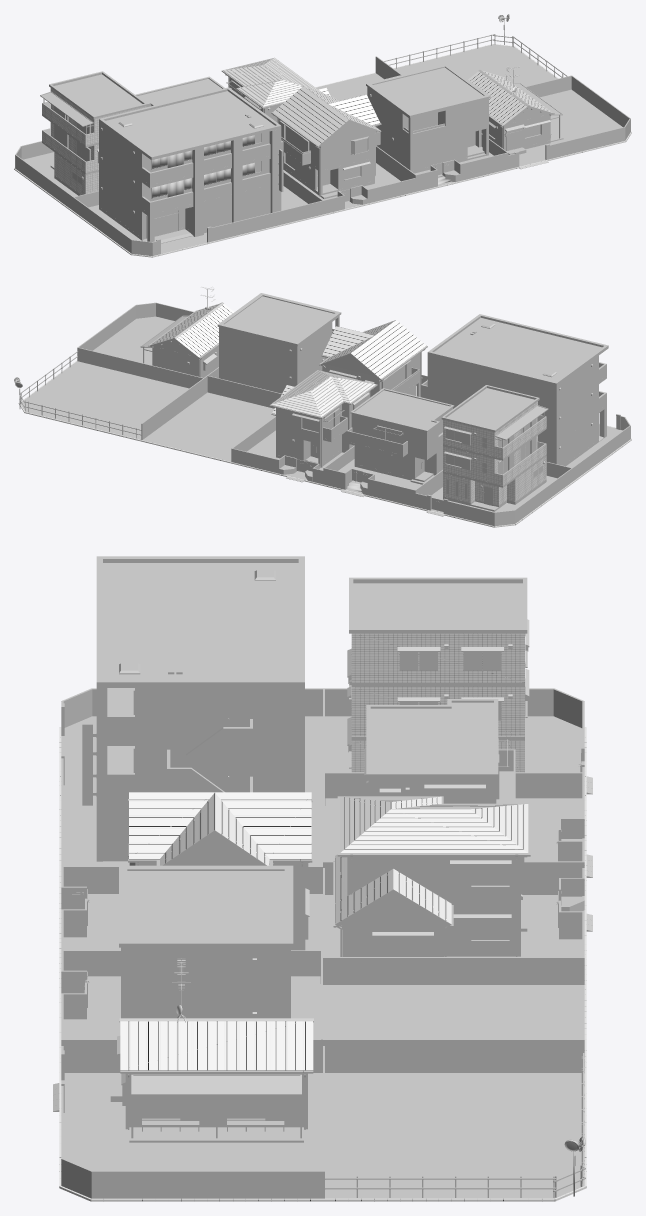
The model's file is Street_E.fbx.
The picture shows the model from 3 angles, top to bottom: view 1: azimuth 30°, elevation 25°; view 2: azimuth 150°, elevation 25°; view 3: azimuth 270°, elevation 25°; orthographic projection. The views are drawn at different scales.
Visible parts, largest first — view 1: Street_E; view 2: Street_E; view 3: Street_E.
Part boxes in pixels (<box>): Street_E: <box>14,14,631,257</box>; Street_E: <box>14,286,631,527</box>; Street_E: <box>53,556,592,1201</box>.
Size of the model in its own units: 5399 by 944 by 2539.
